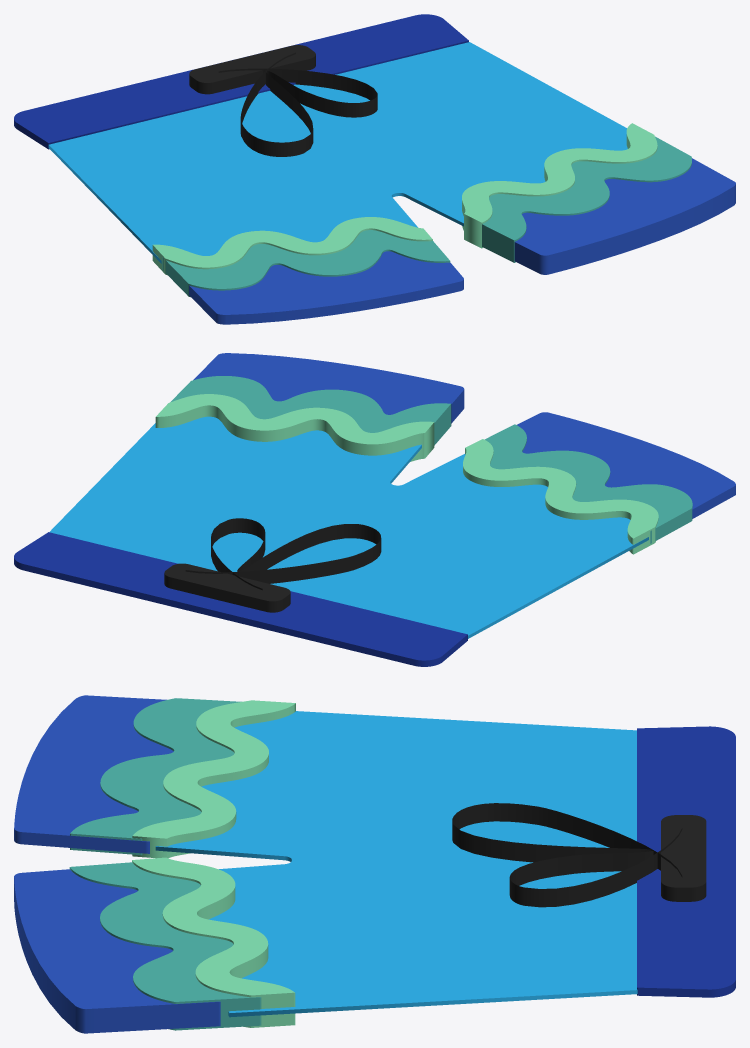
Rendered from emoji_u1fa73.glb.
3 views of the same model, one above another, from view 1: azimuth 30°, elevation 25°; view 2: azimuth 150°, elevation 25°; view 3: azimuth 270°, elevation 25° (orthographic). The views are drawn at different scales.
Parts seen in each view (by area): view 1: emoji_u1fa73; view 2: emoji_u1fa73; view 3: emoji_u1fa73.
Boxes of the visible parts, bbox=[...] form: emoji_u1fa73: bbox=[14, 14, 735, 324]; emoji_u1fa73: bbox=[14, 353, 735, 666]; emoji_u1fa73: bbox=[14, 695, 735, 1033].
Bounding box in the file's own units: 0.0337 × 0.002 × 0.0321.
